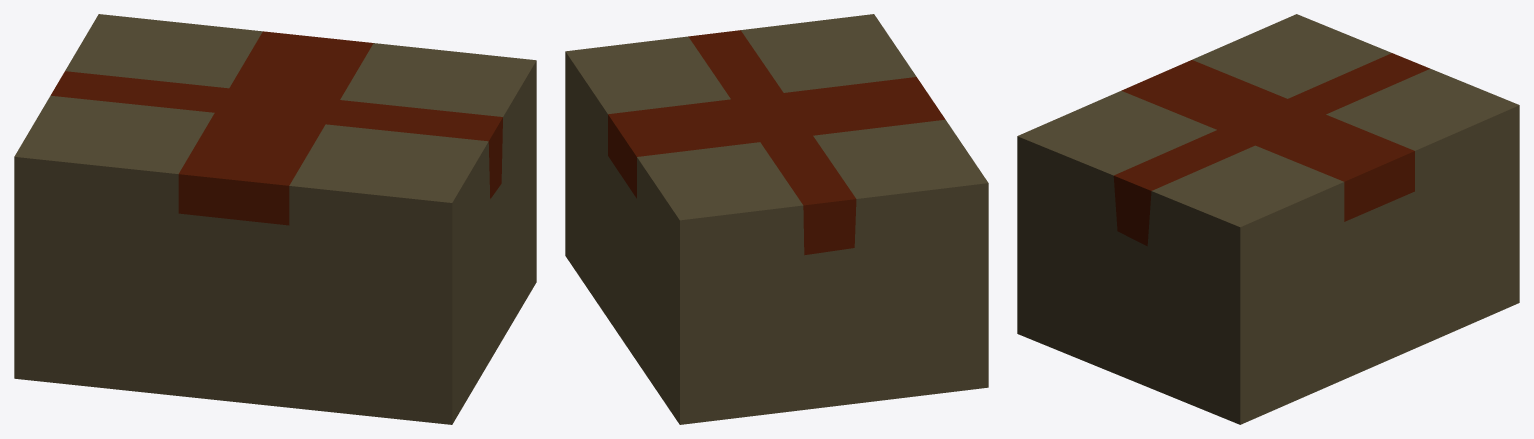
Rendered from DEFAULTbox.fbx.
The picture shows the model from 3 angles, left to right: view 1: azimuth 30°, elevation 25°; view 2: azimuth 150°, elevation 25°; view 3: azimuth 270°, elevation 25°; orthographic projection. The views are drawn at different scales.
Parts seen in each view (by area): view 1: box; view 2: box; view 3: box.
Part boxes in pixels (box(x1,y1,x2,y2)): box: box(14, 14, 536, 424); box: box(565, 14, 988, 424); box: box(1017, 14, 1519, 424).
Bounding box in the file's own units: 10.71 × 4.63 × 10.67.
